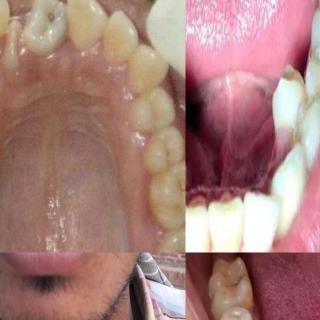calculus: (241, 298, 259, 320)
cavities: (35, 3, 64, 33)
maligned: (233, 188, 287, 252), (122, 41, 174, 97), (270, 65, 316, 127), (55, 0, 110, 50), (0, 0, 29, 48), (1, 18, 27, 70)
